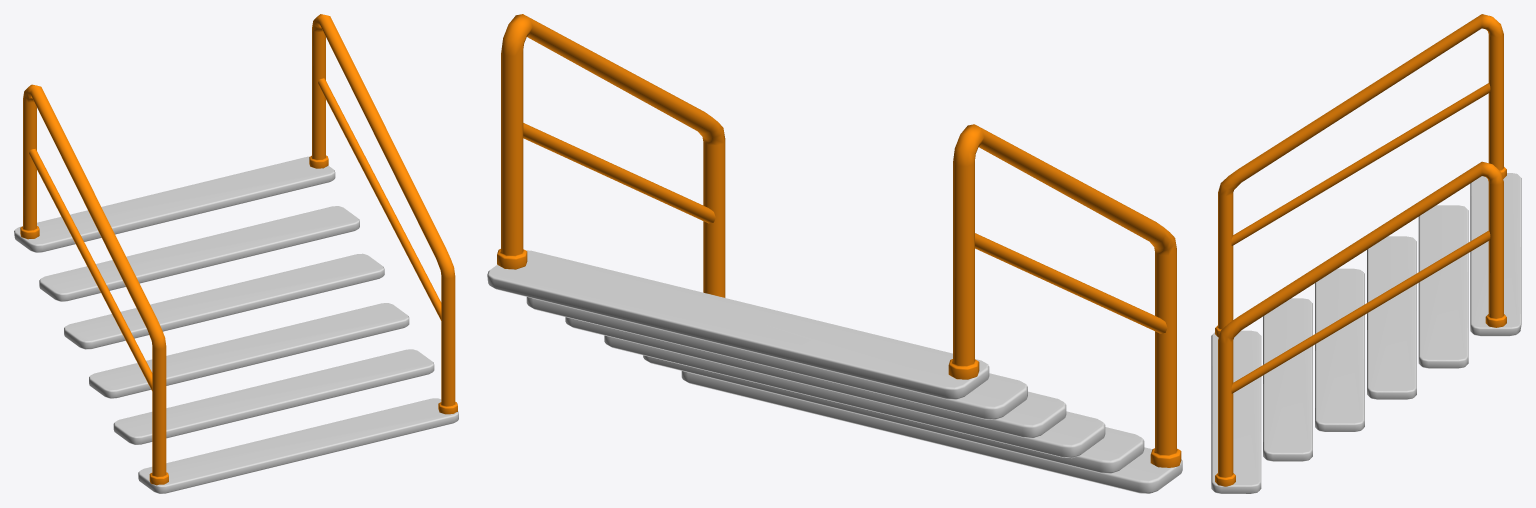
The model's file is StairsTest.fbx.
The picture shows the model from 3 angles, left to right: view 1: azimuth 30°, elevation 25°; view 2: azimuth 150°, elevation 25°; view 3: azimuth 270°, elevation 25°; orthographic projection. The views are drawn at different scales.
Visible parts, largest first — view 1: Cube.004, Plane.048; view 2: Cube.004, Plane.048; view 3: Cube.004, Plane.048.
Boxes of the visible parts, <box> form: Cube.004: <box>14,156,458,493</box>; Plane.048: <box>20,14,457,485</box>; Cube.004: <box>487,250,1182,493</box>; Plane.048: <box>497,14,1181,467</box>; Cube.004: <box>1211,173,1521,493</box>; Plane.048: <box>1215,14,1506,486</box>.
Size of the model in its own units: 191 by 187 by 160.
